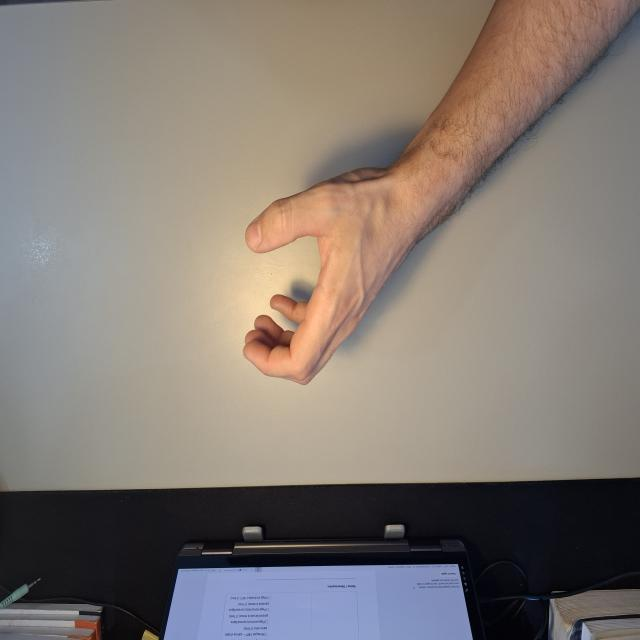glove_off: (241, 160, 416, 388)
